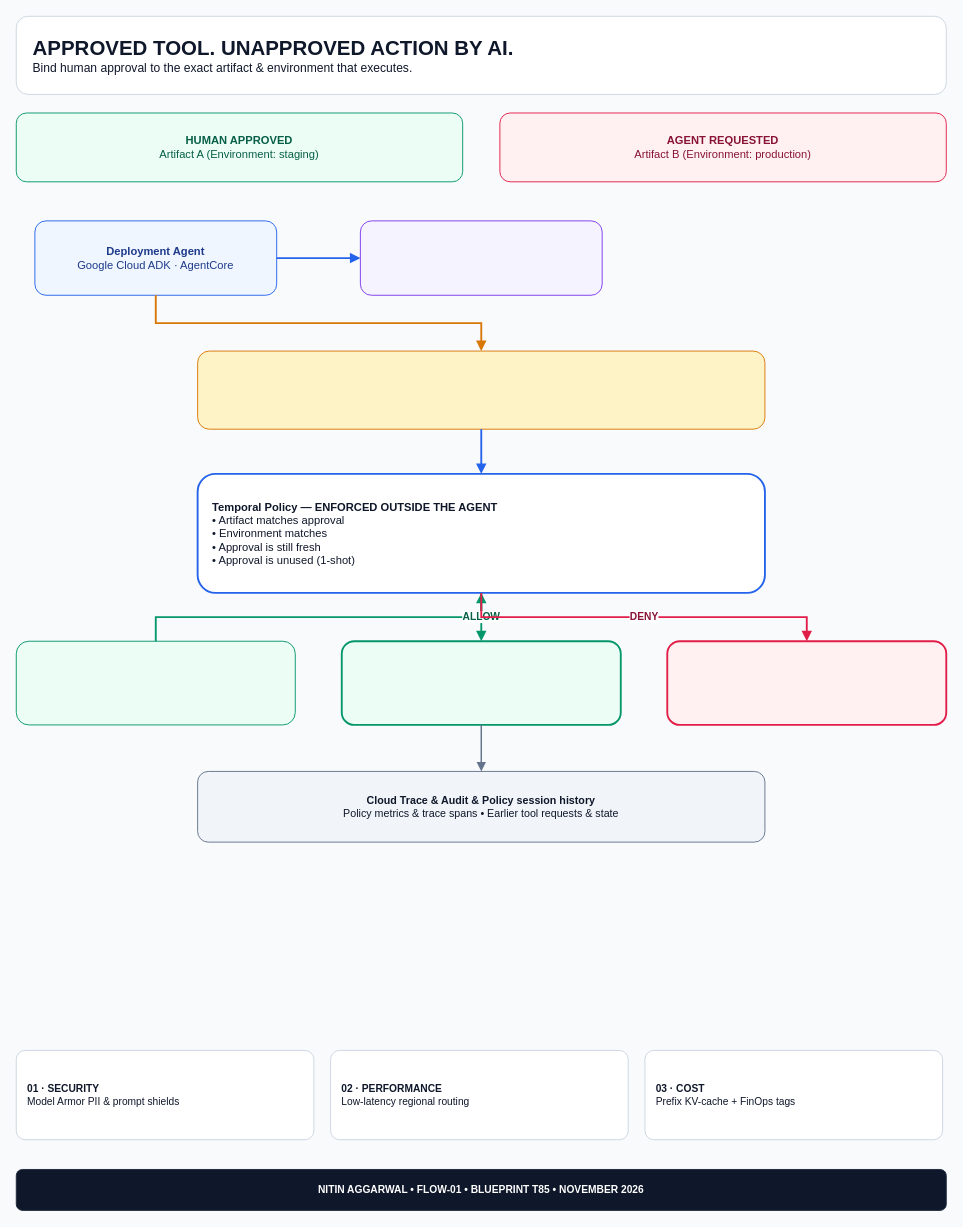
This 963x1227 diagram has some shape labels left out. The centre of each missing label's shape, as x and y in pixels:
"ALLOW → Deployment service Execute authorized deployment" belongs at (x=480, y=682).
"Authenticated human approver Approval service (Trusted approval lookup)" belongs at (x=155, y=682).
"DENY → Action blocked No deployment call is made" belongs at (x=806, y=682).
"Frontier LLM Vertex AI Gemini · Bedrock" belongs at (x=480, y=257).
"Policy Gateway (ENFORCEMENT POINT) ADK BeforeToolCallback · Gateway" belongs at (x=481, y=389).
